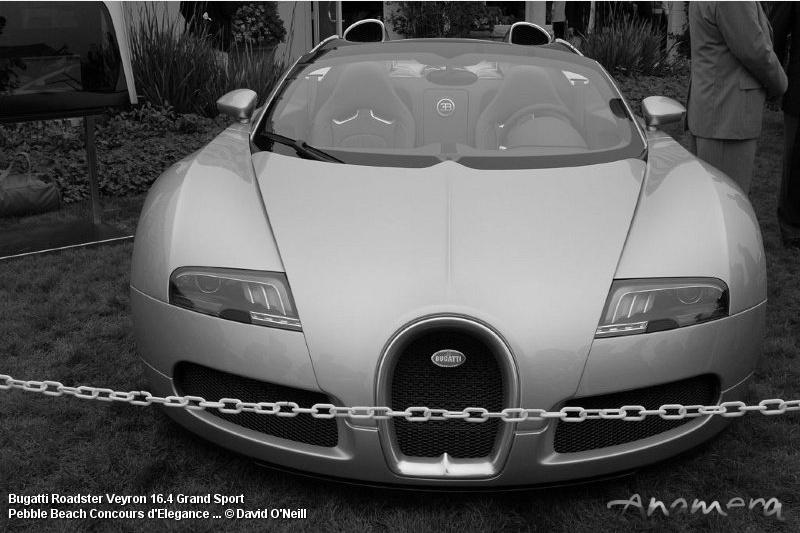car: (132, 20, 774, 505)
